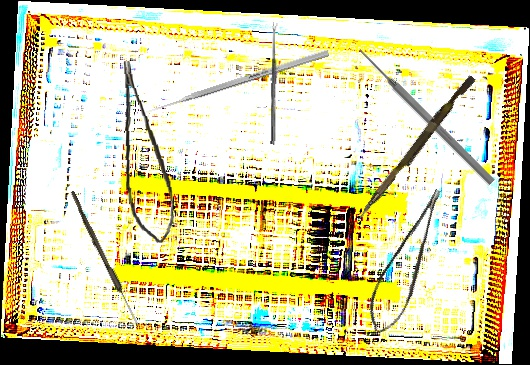Micro Scissor: (354, 185, 467, 340), (116, 58, 179, 246)
Pusher: (355, 45, 497, 187), (356, 71, 476, 226), (143, 49, 330, 116)
Surgical Spoon: (67, 190, 142, 327), (270, 22, 278, 145)
